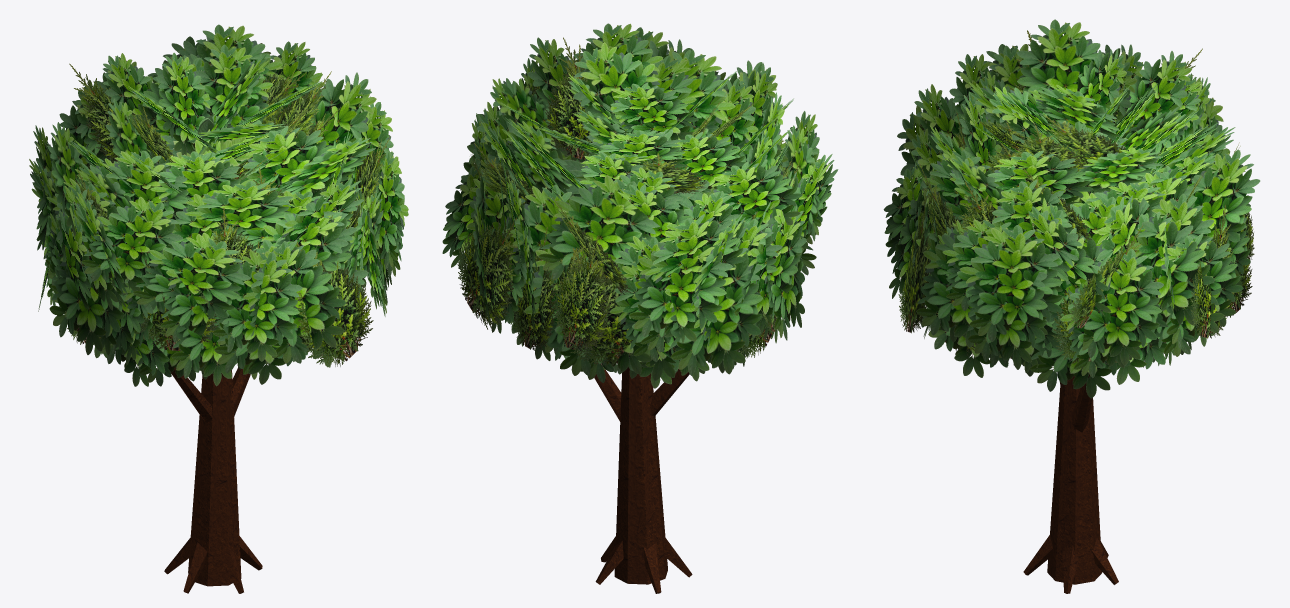
The model's file is tree_broadleaf_01_real.gltf.
3 renders of one model, left to right at view 1: azimuth 30°, elevation 25°; view 2: azimuth 150°, elevation 25°; view 3: azimuth 270°, elevation 25°, orthographic.
Visible parts, largest first — view 1: tree_broadleaf_01; view 2: tree_broadleaf_01; view 3: tree_broadleaf_01.
Boxes of the visible parts, box(x1,y1,x2,y2) form: tree_broadleaf_01: box(29, 24, 408, 593); tree_broadleaf_01: box(442, 23, 838, 593); tree_broadleaf_01: box(883, 19, 1260, 593).
Bounding box in the file's own units: 4.6 × 6.7 × 4.61.
2 materials, 2 textured.
